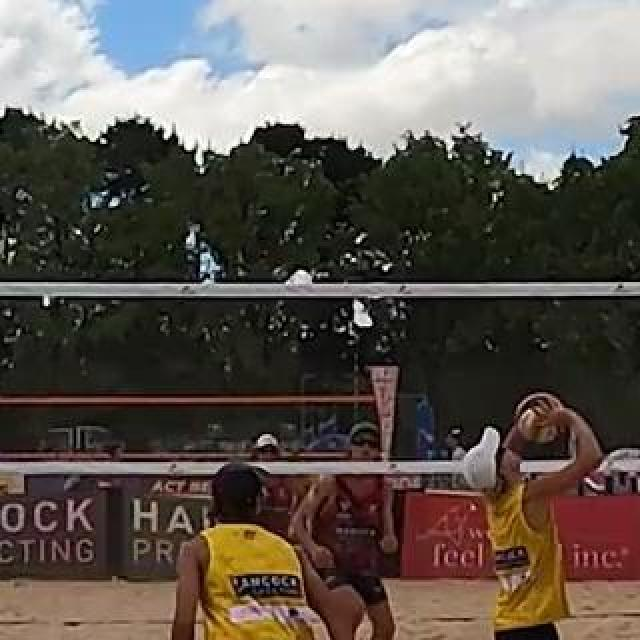volleyball: (519, 392, 563, 444)
